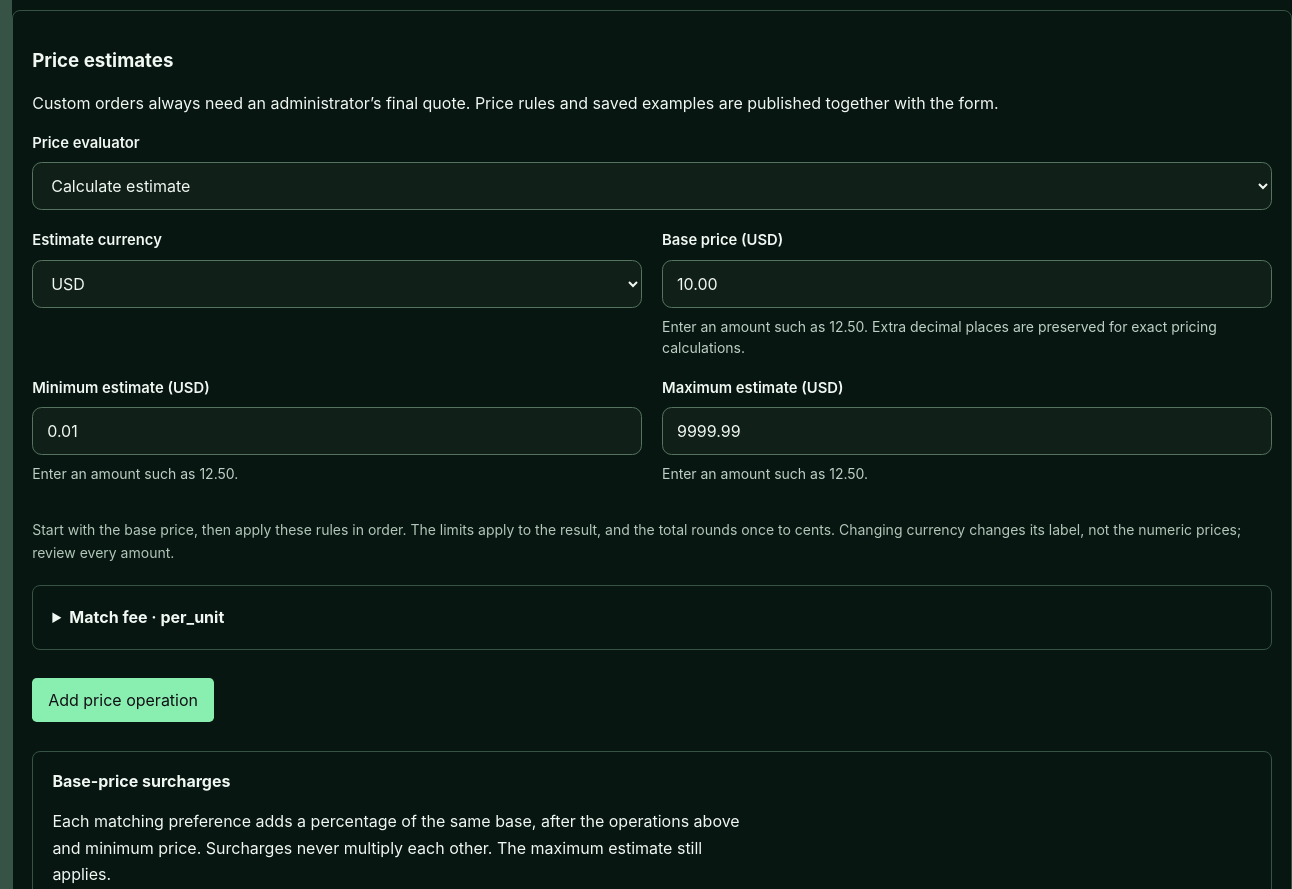
Scenario: edits ordinary currency amounts without floating-point conversion or premature rounding
Replace the text in the field labelled "Base price (USD)" with "12.3456789". click: x=967, y=284
box: [662,260,1272,308]
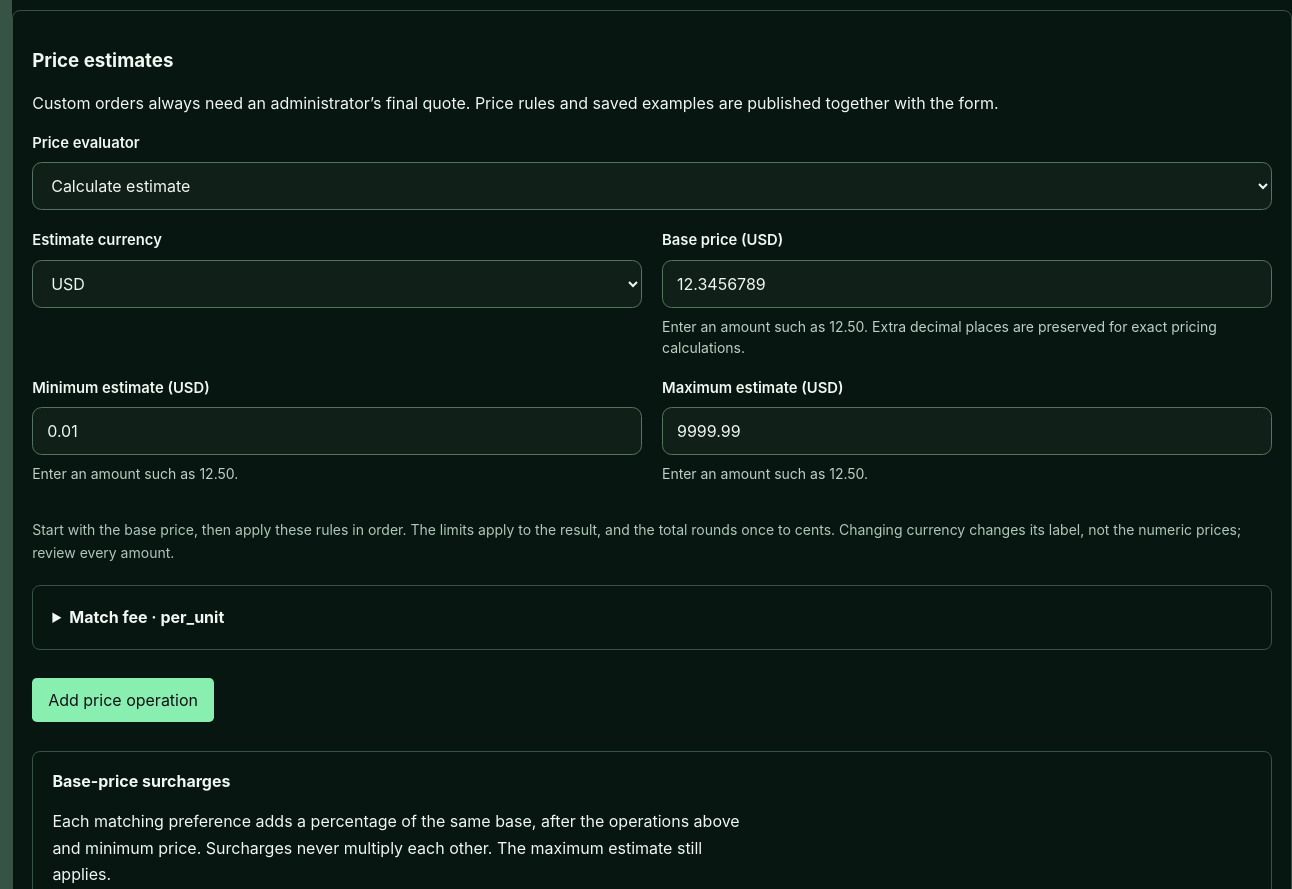
Replace the text in the field labelled "Maximum estimate (USD)" with "99.999". click: x=967, y=431
box: [662,407,1272,455]
(page scrolled)
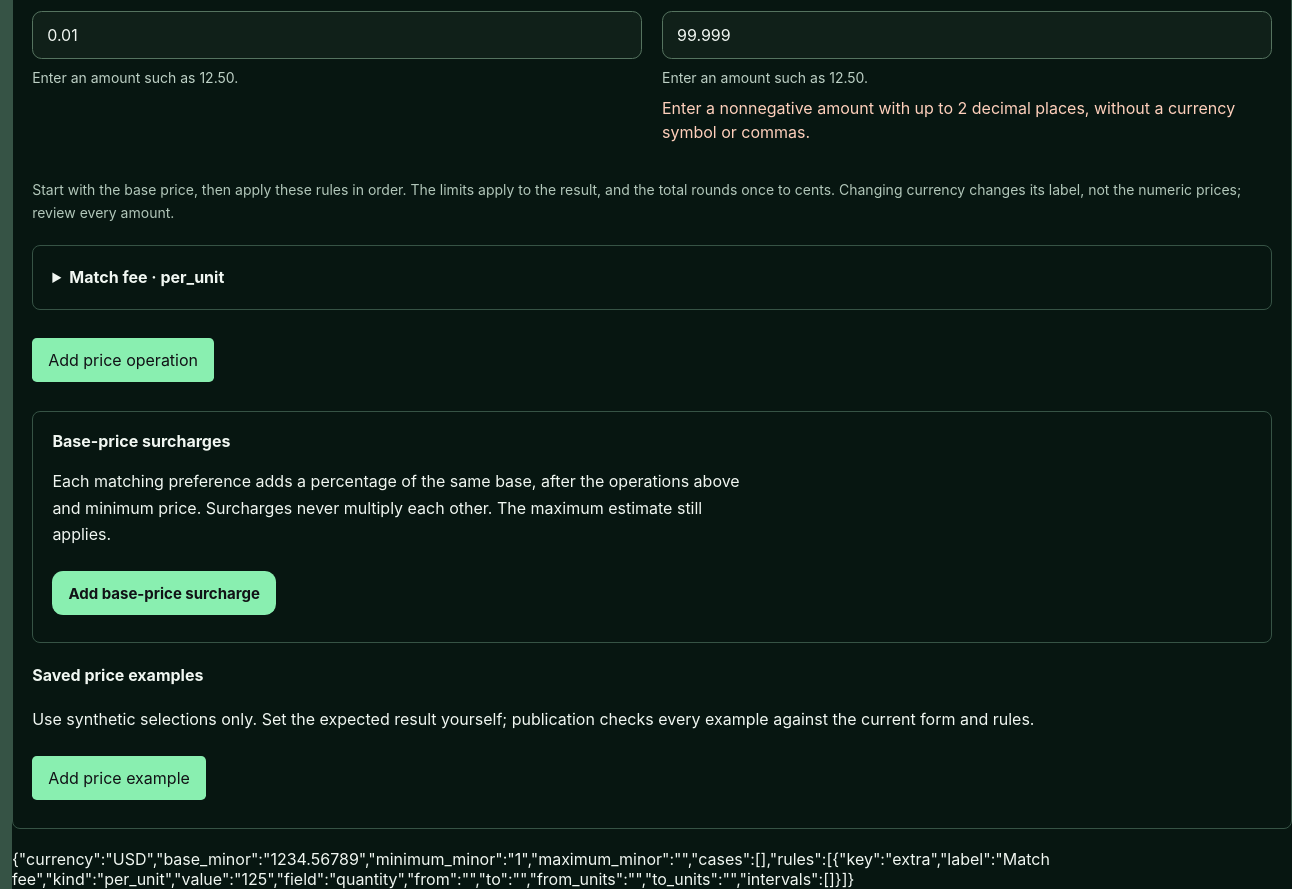
Expected: the text named "Saved pricing" shows "\"maximum_minor\":\"\"", [12,849,1050,888]
